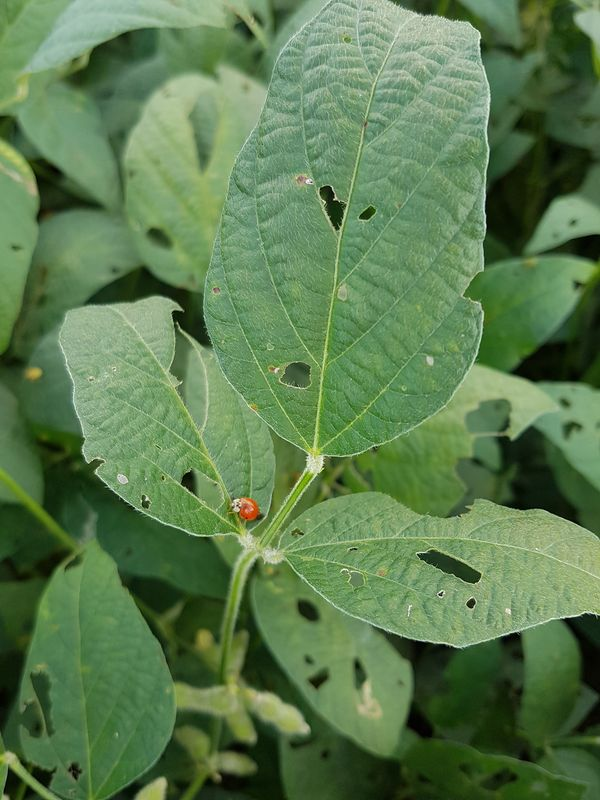Coccinellidae: (222, 490, 264, 530)
